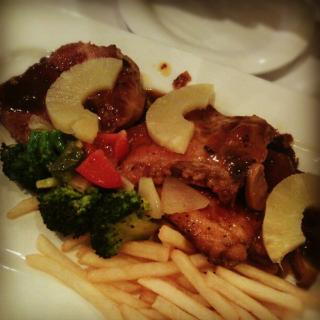French fries: (36, 214, 300, 315)
